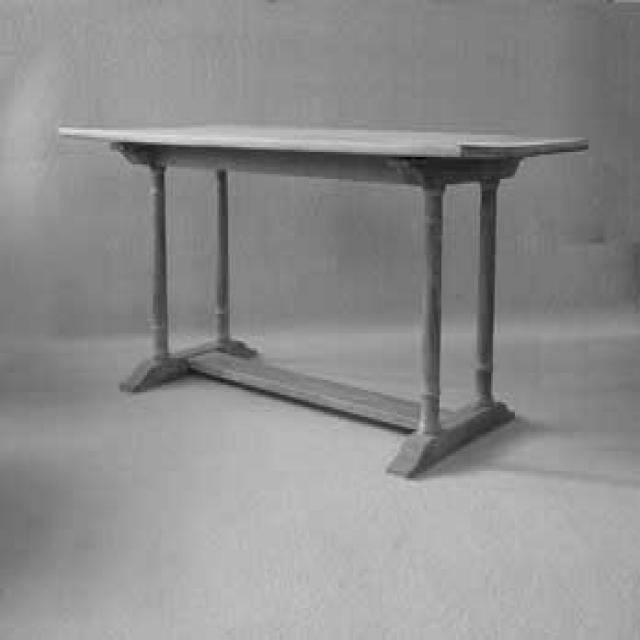table: (60, 126, 592, 480)
